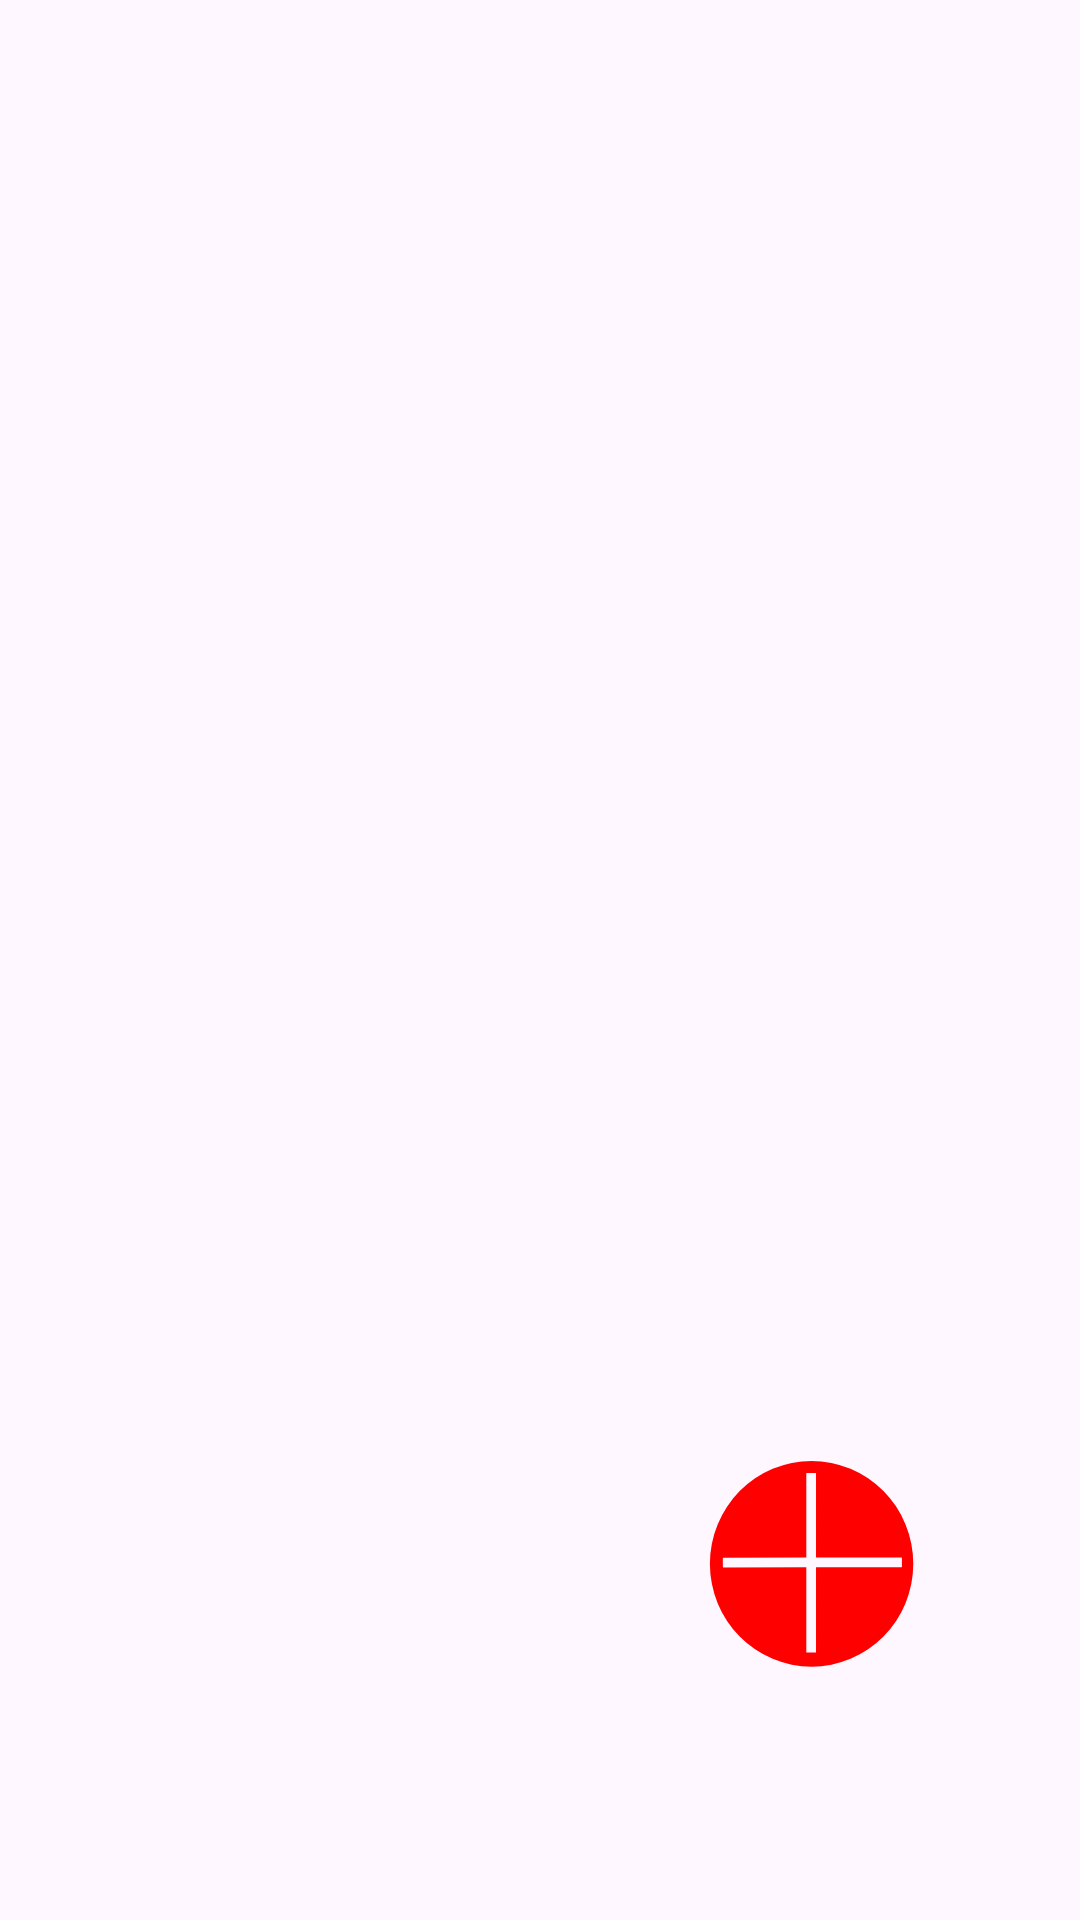

Point at icon controls on the screen. Image size 1080px×1920px, points as (x=x, y=y).
plus: (x=812, y=1564)
